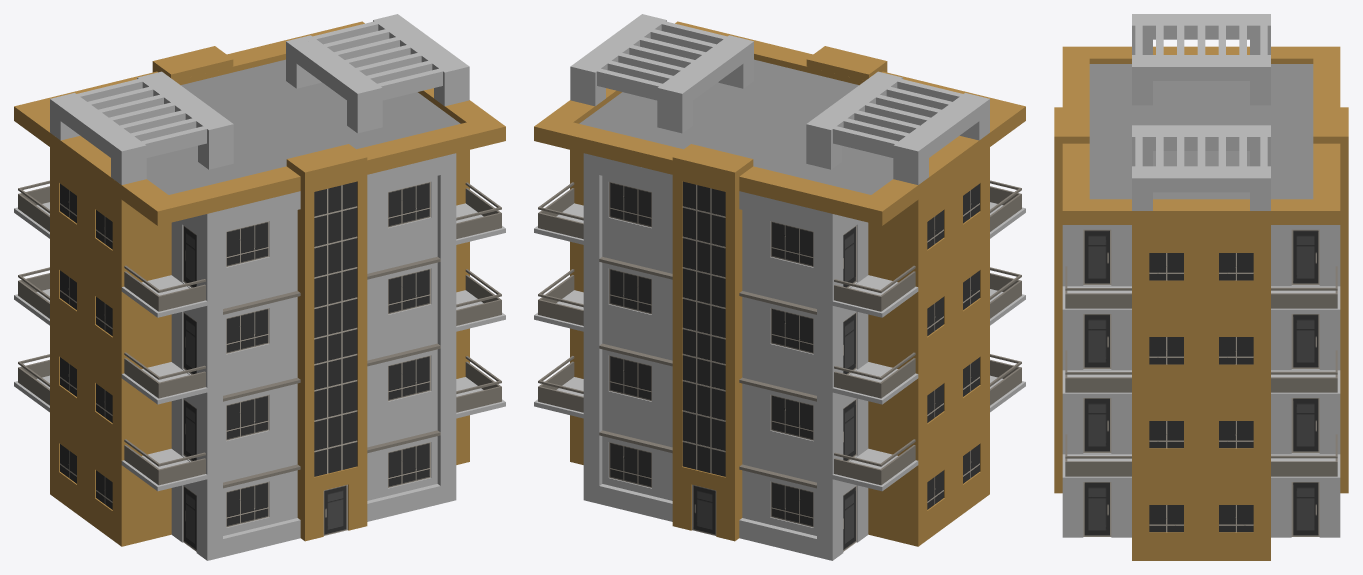
File: spw-urban-bldg-apartment-01.glb
3 views of the same model, side by side, from view 1: azimuth 30°, elevation 25°; view 2: azimuth 150°, elevation 25°; view 3: azimuth 270°, elevation 25° (orthographic). The views are drawn at different scales.
Visible parts, largest first — view 1: SPW_Urban_Bldg_Apartment_01; view 2: SPW_Urban_Bldg_Apartment_01; view 3: SPW_Urban_Bldg_Apartment_01.
Boxes of the visible parts, bbox=[...] form: SPW_Urban_Bldg_Apartment_01: bbox=[14, 14, 505, 560]; SPW_Urban_Bldg_Apartment_01: bbox=[534, 14, 1025, 560]; SPW_Urban_Bldg_Apartment_01: bbox=[1054, 14, 1348, 560].
Bounding box in the file's own units: 22.68 × 24.6 × 17.17.
1 material, 1 textured.
